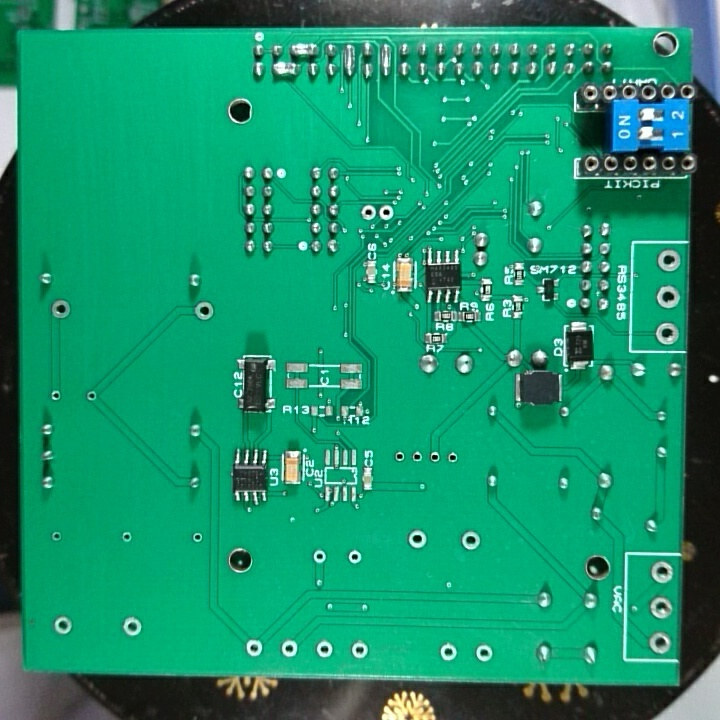F: (654, 283, 682, 312), (654, 318, 682, 346), (655, 246, 682, 274), (648, 558, 675, 586), (647, 630, 674, 656), (648, 594, 673, 622), (119, 614, 145, 640), (48, 297, 74, 322), (459, 527, 482, 554), (51, 612, 74, 638), (191, 298, 215, 322), (242, 636, 266, 659), (278, 638, 301, 661), (349, 639, 371, 661), (314, 638, 337, 659), (439, 639, 459, 663), (474, 642, 495, 664), (406, 528, 425, 551), (425, 446, 444, 468), (310, 546, 330, 566), (377, 202, 396, 223), (346, 546, 364, 568), (359, 202, 377, 223), (408, 446, 425, 468), (392, 446, 408, 468), (188, 528, 205, 548), (47, 385, 63, 405), (119, 526, 134, 547), (82, 386, 99, 404), (48, 527, 64, 546), (445, 448, 459, 469)
P: (376, 40, 394, 80), (340, 42, 358, 80), (288, 41, 319, 59), (268, 60, 299, 78)
